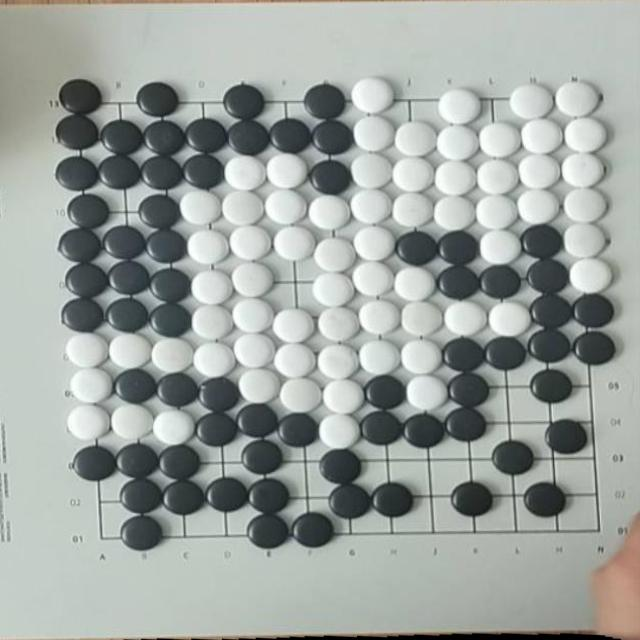blackstone: (58, 228, 104, 265), (55, 115, 101, 152), (98, 154, 142, 192), (228, 118, 272, 156), (65, 193, 110, 230), (100, 120, 144, 157), (303, 83, 347, 120), (64, 264, 109, 300), (140, 156, 185, 192), (436, 264, 481, 300), (58, 79, 103, 115), (61, 298, 105, 334), (120, 479, 164, 515), (544, 420, 588, 456), (115, 443, 159, 479), (241, 439, 285, 475), (113, 368, 157, 404), (247, 479, 291, 515), (106, 298, 150, 334), (56, 156, 100, 192), (528, 329, 572, 365), (102, 226, 146, 262), (149, 268, 193, 304), (442, 338, 486, 374), (529, 292, 573, 328), (520, 223, 564, 259), (185, 118, 229, 154), (526, 258, 570, 294), (143, 120, 187, 156), (482, 336, 527, 371), (573, 331, 616, 367), (158, 445, 201, 481), (319, 449, 362, 485), (328, 483, 371, 519), (524, 482, 567, 518), (72, 446, 116, 481), (163, 480, 207, 515), (444, 408, 488, 443), (246, 514, 290, 549), (195, 412, 239, 447), (359, 411, 403, 446), (149, 303, 193, 338), (235, 404, 279, 439), (450, 482, 494, 517), (447, 373, 491, 408), (138, 195, 182, 230), (492, 440, 534, 476), (396, 230, 438, 266), (270, 118, 312, 154), (312, 120, 354, 156), (223, 84, 265, 120), (120, 516, 163, 551), (156, 373, 199, 408), (182, 154, 225, 189), (145, 229, 188, 264), (136, 82, 179, 117), (206, 478, 250, 512), (529, 370, 573, 404), (108, 260, 152, 294), (371, 483, 413, 518), (278, 412, 320, 447), (572, 294, 614, 329), (364, 375, 406, 410), (198, 378, 240, 413), (310, 160, 352, 195), (480, 265, 522, 300), (292, 513, 333, 548), (403, 414, 445, 448), (438, 231, 480, 265)
whitestone: (66, 404, 110, 441), (555, 80, 599, 117), (442, 300, 487, 336), (437, 88, 482, 124), (272, 342, 316, 378), (563, 222, 607, 258), (231, 297, 275, 333), (516, 189, 560, 225), (231, 261, 275, 297), (264, 188, 308, 224), (222, 190, 266, 226), (509, 83, 553, 119), (405, 375, 447, 412), (353, 115, 395, 152), (108, 333, 151, 369), (191, 304, 234, 340), (279, 378, 322, 414), (569, 258, 612, 294), (229, 225, 272, 261), (237, 368, 280, 404), (393, 266, 436, 302), (518, 154, 561, 190), (561, 153, 604, 189), (349, 188, 392, 224), (68, 368, 112, 403), (150, 338, 194, 373), (192, 342, 236, 377), (272, 226, 316, 261), (311, 272, 355, 307), (111, 404, 153, 440), (358, 340, 400, 376), (322, 379, 364, 415), (352, 261, 394, 297), (308, 194, 350, 230), (563, 188, 605, 224), (392, 157, 434, 193), (350, 153, 392, 189), (564, 118, 606, 154), (478, 122, 520, 158), (521, 118, 563, 154), (152, 410, 195, 445), (488, 302, 531, 337), (190, 269, 233, 304), (233, 333, 276, 368), (272, 307, 315, 342), (313, 237, 356, 272), (352, 226, 395, 261), (265, 153, 308, 188), (394, 122, 437, 157), (179, 190, 223, 224), (65, 333, 107, 368), (400, 340, 442, 375), (318, 344, 360, 379), (479, 229, 521, 264), (318, 414, 360, 449), (358, 300, 400, 335), (401, 301, 443, 336), (318, 306, 360, 341), (433, 195, 475, 230), (391, 192, 433, 227), (434, 160, 476, 195), (436, 125, 478, 160), (351, 77, 393, 112), (187, 230, 230, 264), (224, 156, 267, 190), (476, 195, 518, 229), (477, 160, 519, 194)
